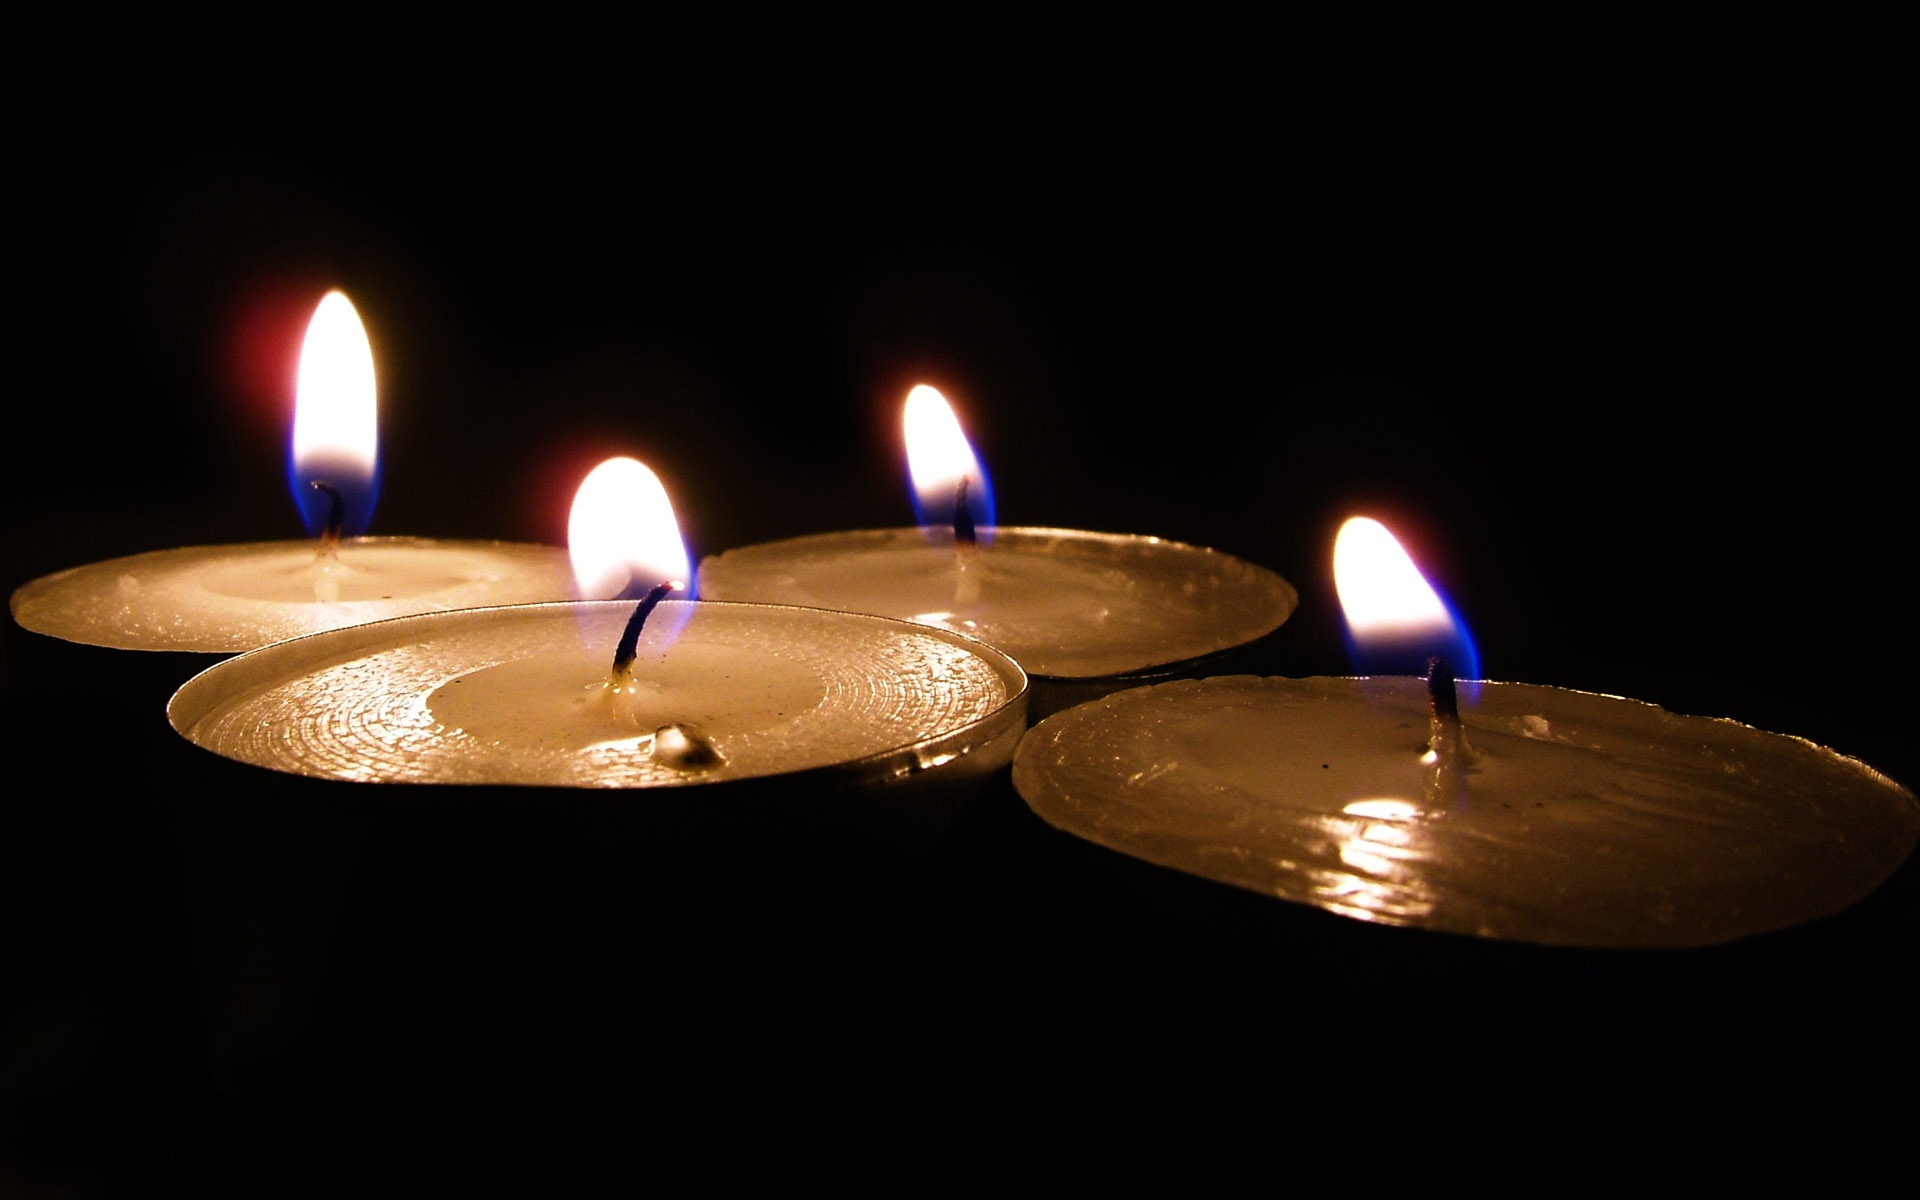fire: (283, 622, 477, 778), (831, 604, 1005, 776), (1310, 773, 1449, 919), (565, 452, 697, 606), (290, 283, 383, 476), (1328, 509, 1458, 637), (894, 377, 997, 523), (571, 711, 735, 789)
